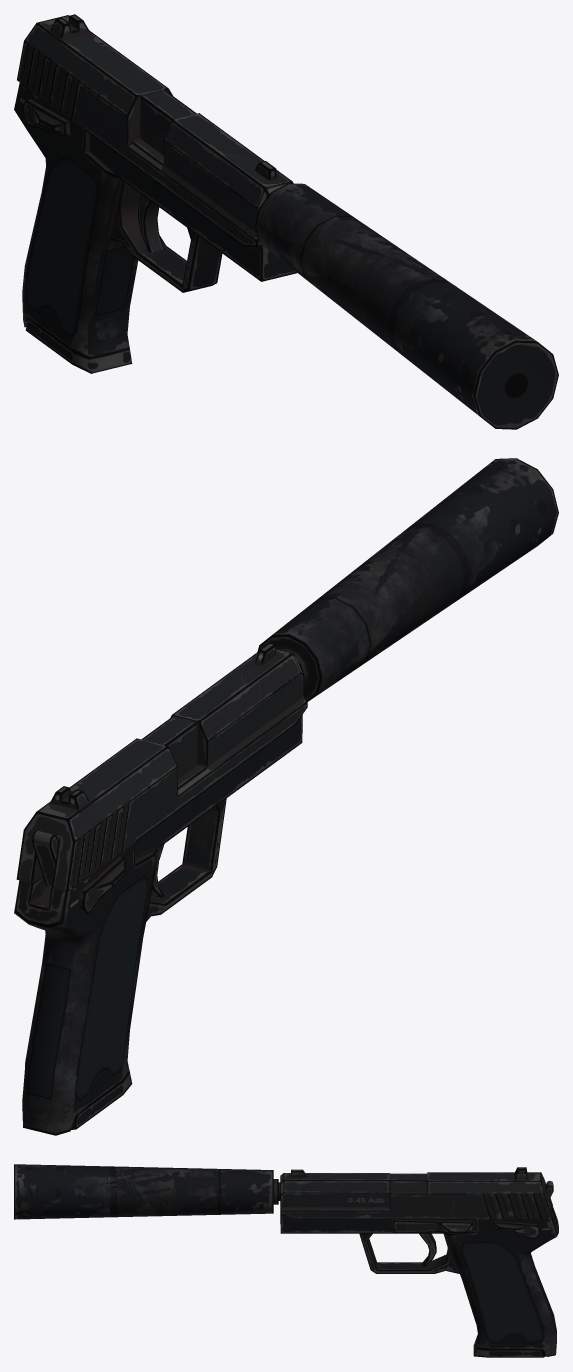
The model's file is USP-s.FBX.
The picture shows the model from 3 angles, top to bottom: view 1: azimuth 30°, elevation 25°; view 2: azimuth 150°, elevation 25°; view 3: azimuth 270°, elevation 25°; orthographic projection. The views are drawn at different scales.
Visible parts, largest first — view 1: USP-s; view 2: USP-s; view 3: USP-s.
Boxes of the visible parts, box(x1,y1,x2,y2) form: USP-s: box(14, 14, 558, 429); USP-s: box(14, 458, 558, 1135); USP-s: box(14, 1164, 558, 1357).
Bounding box in the file's own units: 4.3 × 15.72 × 42.19.
